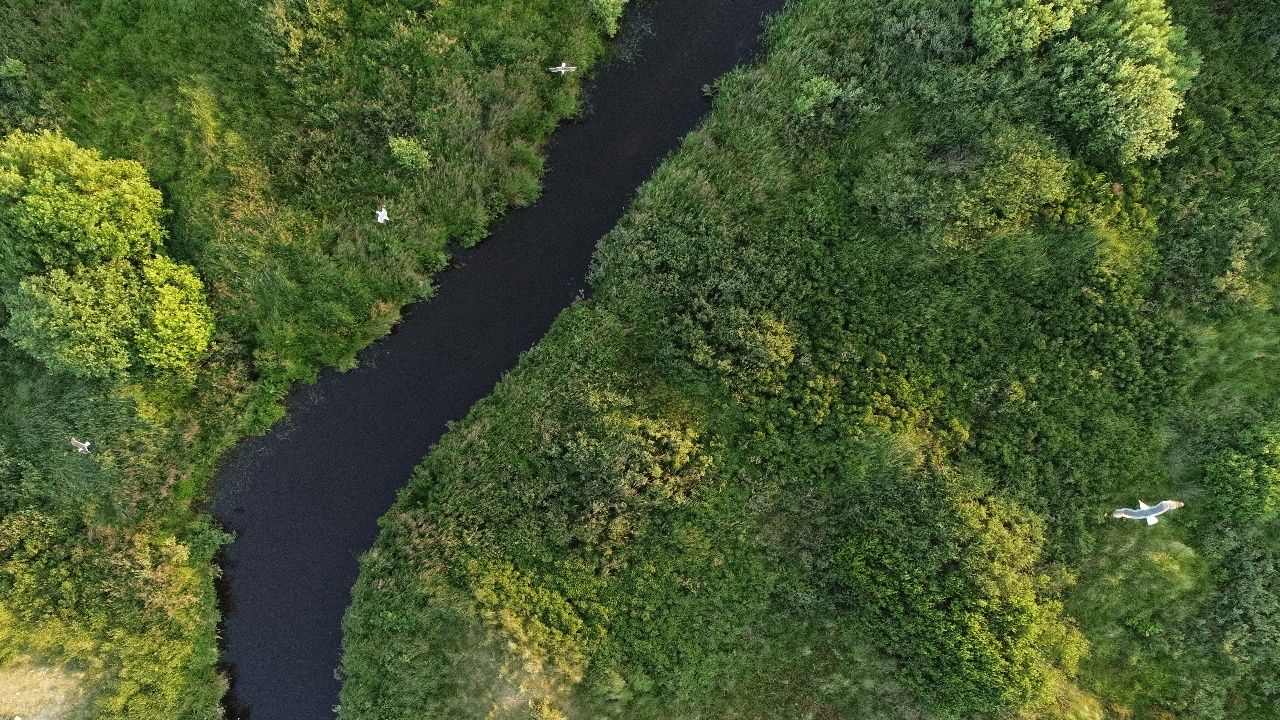Bird: (1104, 488, 1189, 536), (542, 52, 583, 86), (363, 197, 404, 231), (60, 429, 101, 463)
